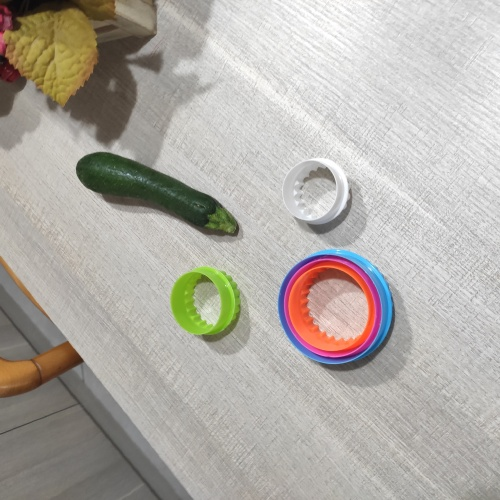zucchine: (81, 146, 249, 251)
